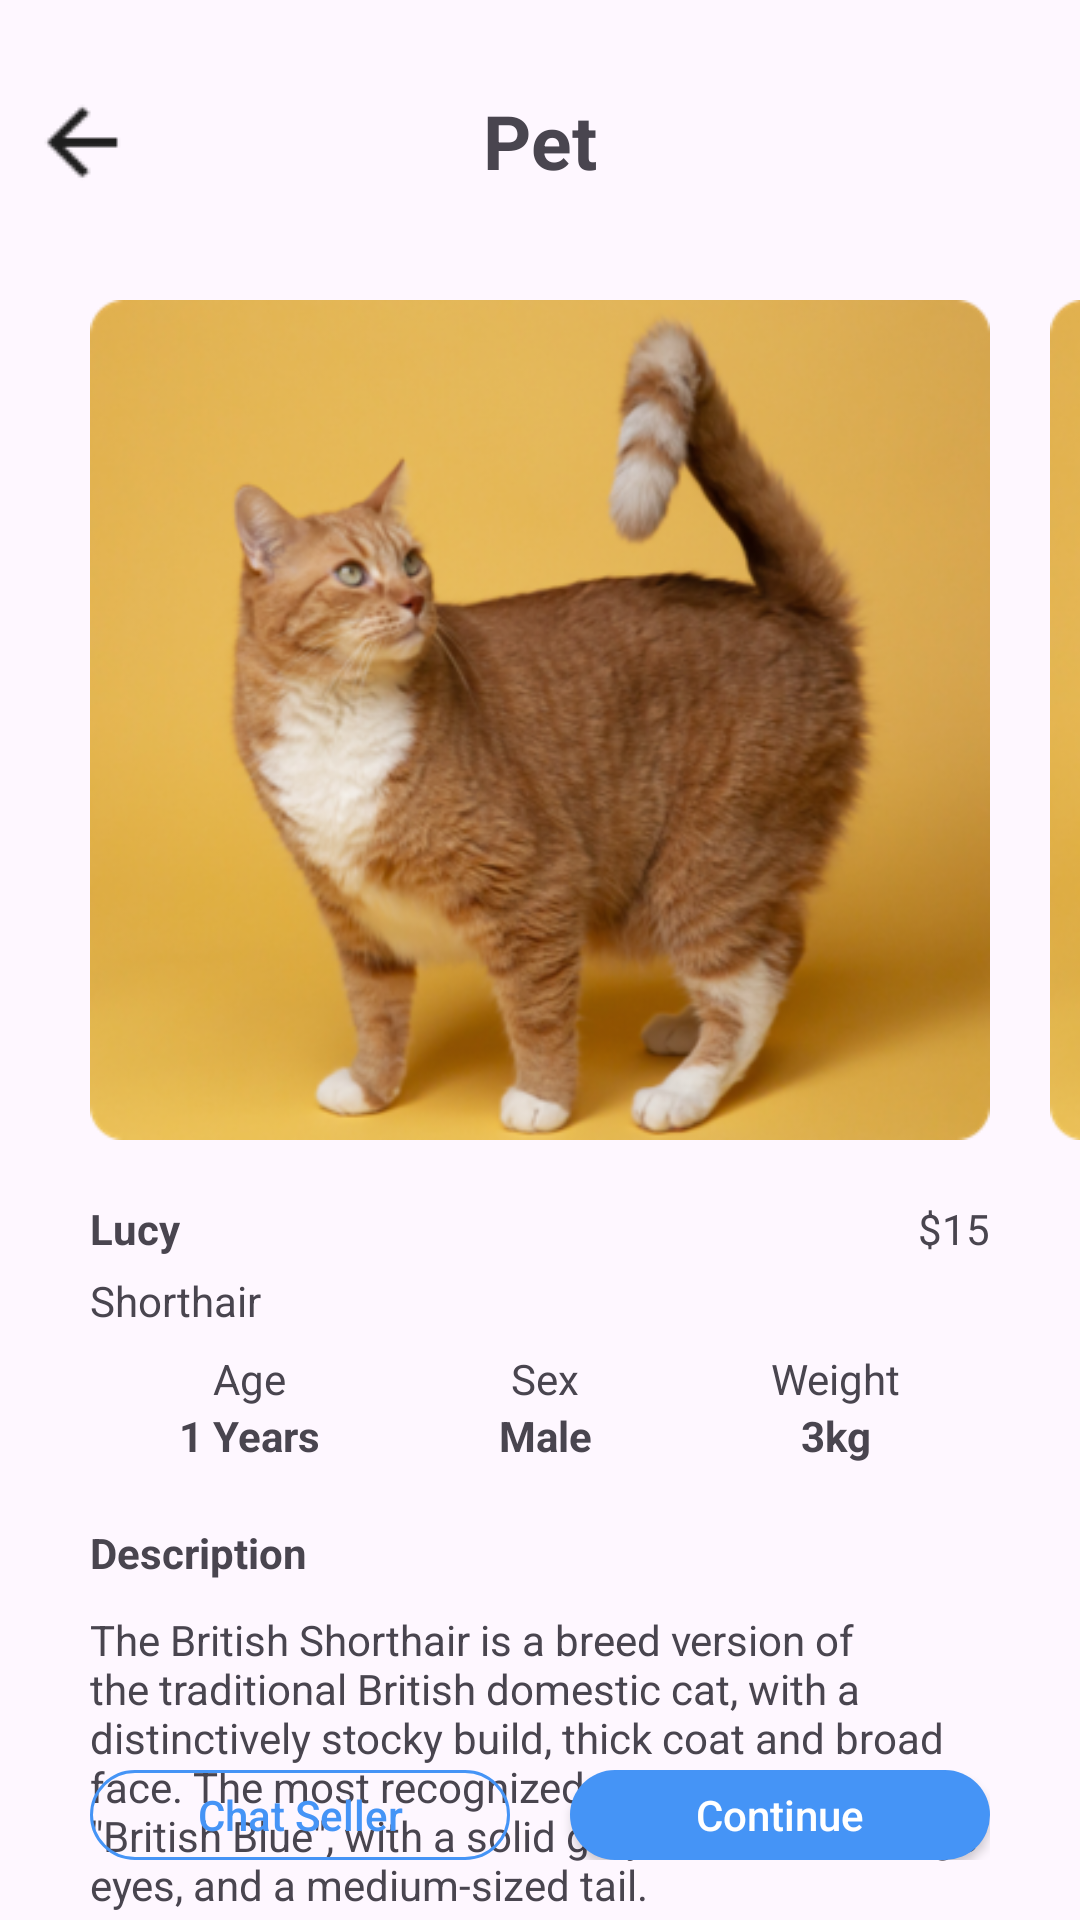

Icon click points for this 1080w x 1920h phone screenshot, format (x=x, y=y):
back: (x=82, y=142)
